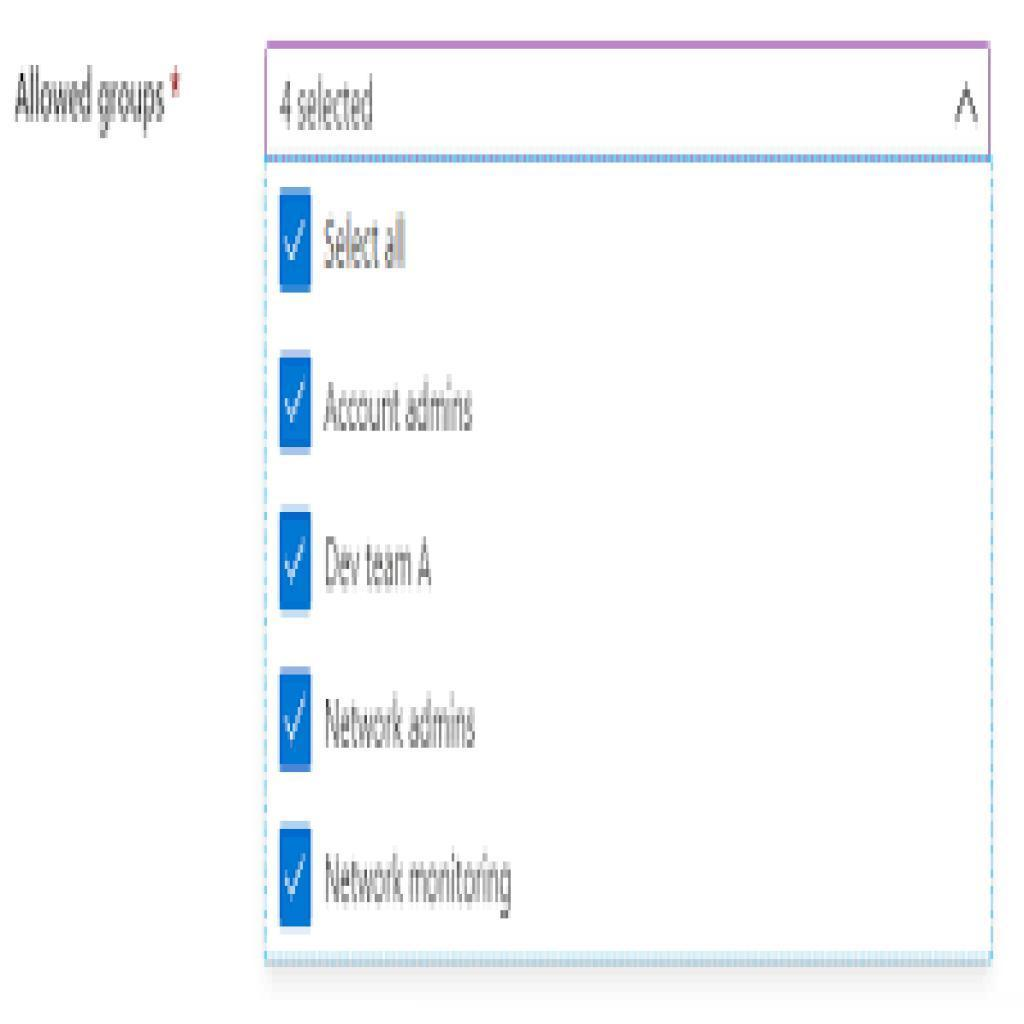checkbox: (278, 512, 315, 609), (281, 189, 314, 294), (280, 669, 312, 773), (281, 826, 314, 925), (281, 355, 314, 452)
dropdown: (267, 45, 993, 158)
